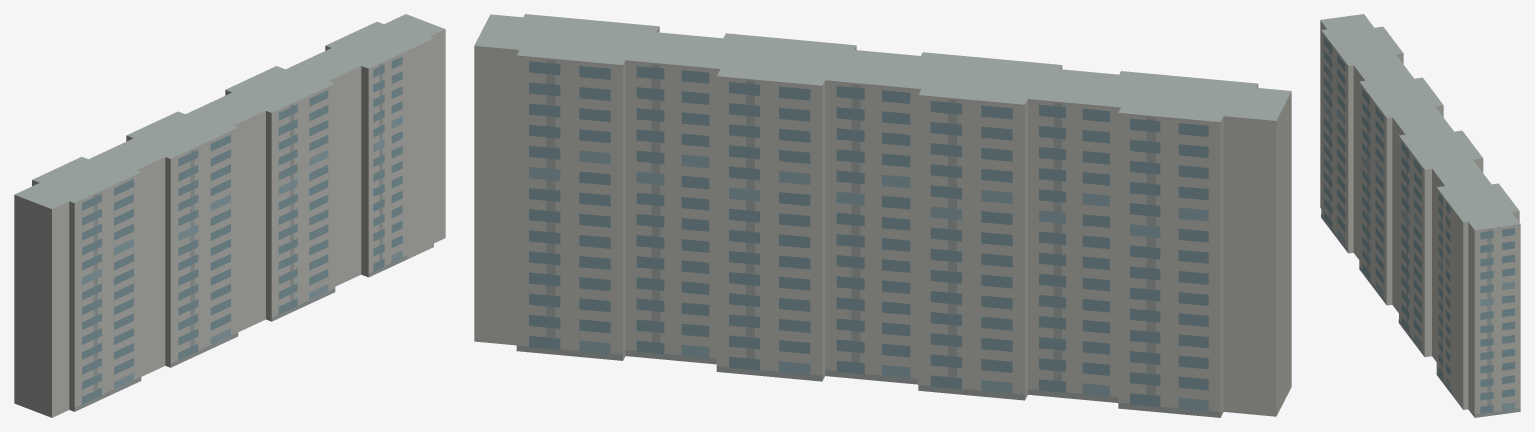
Rendered from residential-bf8e4055-30d3-482a-ab1d-9b777f35b07c.glb.
3 renders of one model, left to right at view 1: azimuth 30°, elevation 25°; view 2: azimuth 150°, elevation 25°; view 3: azimuth 270°, elevation 25°, orthographic. The views are drawn at different scales.
Parts seen in each view (by area): view 1: residential-bf8e4055-30d3-482a-ab1d-9b777f35b07c.tmp; view 2: residential-bf8e4055-30d3-482a-ab1d-9b777f35b07c.tmp; view 3: residential-bf8e4055-30d3-482a-ab1d-9b777f35b07c.tmp.
Boxes of the visible parts, left/top/right/bottom form: residential-bf8e4055-30d3-482a-ab1d-9b777f35b07c.tmp: left=14, top=14, right=445, bottom=417; residential-bf8e4055-30d3-482a-ab1d-9b777f35b07c.tmp: left=474, top=14, right=1291, bottom=417; residential-bf8e4055-30d3-482a-ab1d-9b777f35b07c.tmp: left=1320, top=14, right=1520, bottom=417.
Size of the model in its own units: 106 by 42.7 by 41.37.
